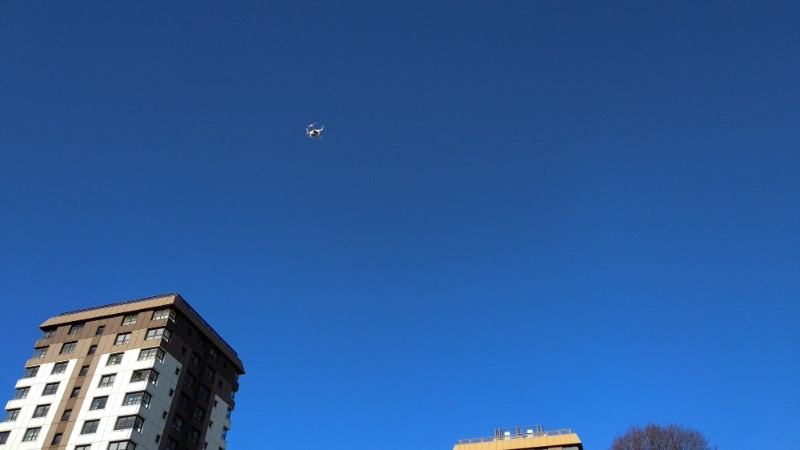drone: (303, 120, 327, 138)
